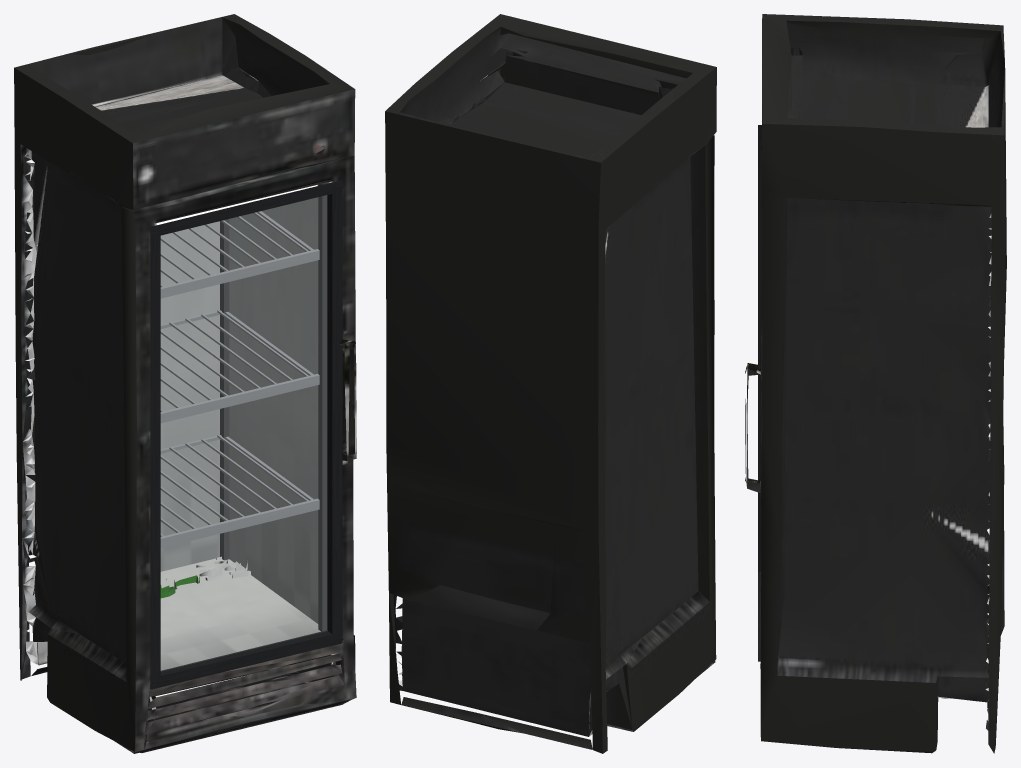
File: shop-cooler-open.glb
3 views of the same model, side by side, from view 1: azimuth 30°, elevation 25°; view 2: azimuth 150°, elevation 25°; view 3: azimuth 270°, elevation 25° (orthographic). The views are drawn at different scales.
Parts seen in each view (by area): view 1: body, interior; view 2: body; view 3: body, interior.
Boxes of the visible parts, left/top/right/bottom form: body: left=14, top=14, right=356, bottom=753; interior: left=149, top=180, right=342, bottom=689; body: left=385, top=14, right=716, bottom=753; body: left=745, top=14, right=1006, bottom=753; interior: left=758, top=125, right=761, bottom=661.
Size of the model in its own units: 0.75 by 2 by 0.75.
Materials: 3 (2 with a texture image).
